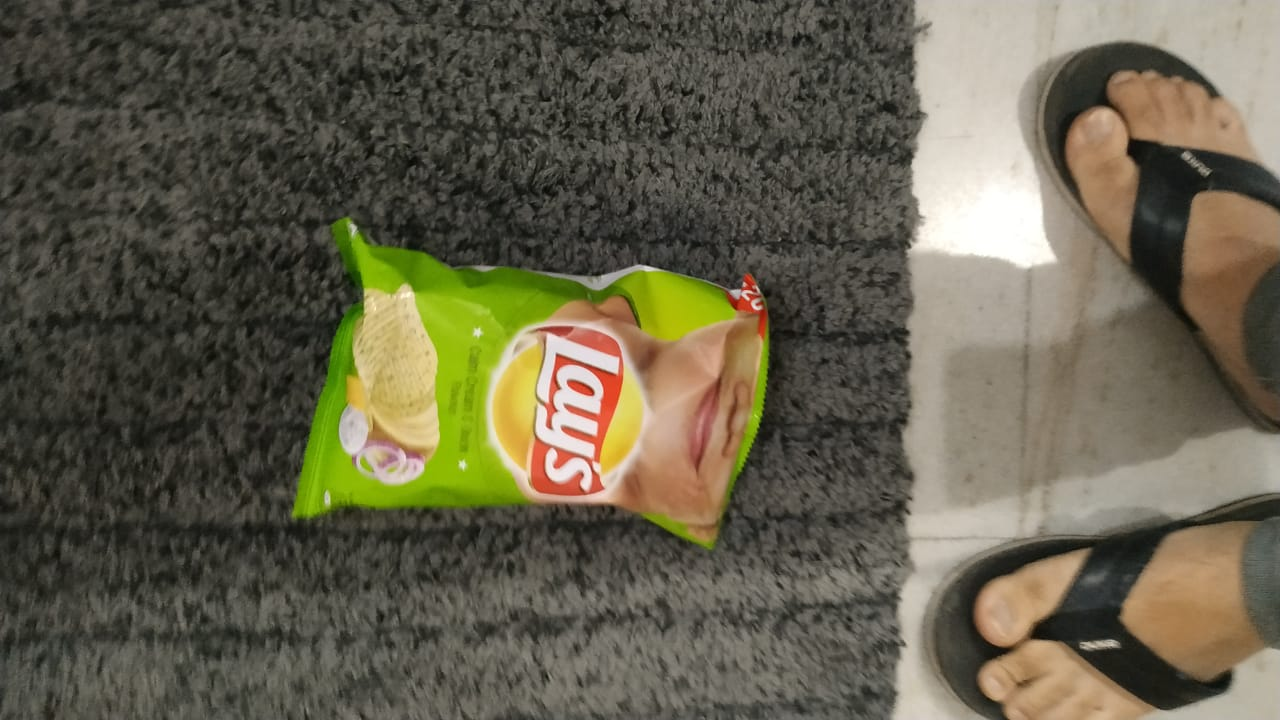lays chips: (284, 203, 793, 561)
